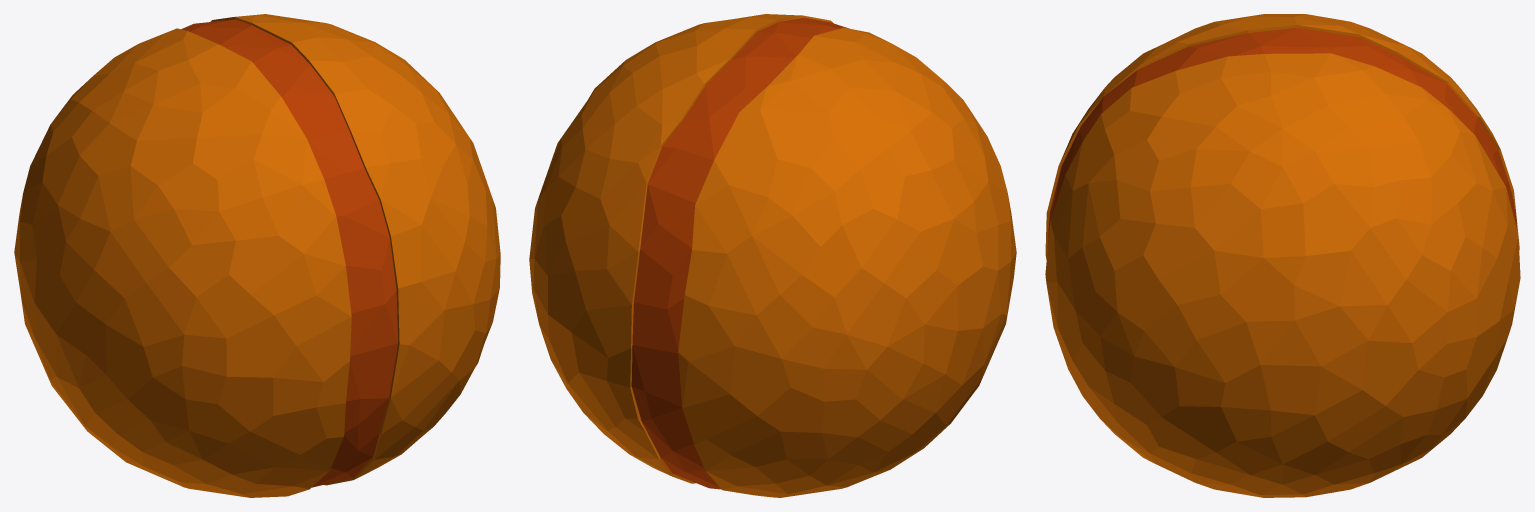
The model's file is mars.fbx.
3 views of the same model, side by side, from view 1: azimuth 30°, elevation 25°; view 2: azimuth 150°, elevation 25°; view 3: azimuth 270°, elevation 25° (orthographic).
Visible parts, largest first — view 1: Cube.004; view 2: Cube.004; view 3: Cube.004.
Part boxes in pixels (left/top/right/bottom): Cube.004: left=14, top=14, right=500, bottom=497; Cube.004: left=529, top=14, right=1016, bottom=497; Cube.004: left=1045, top=14, right=1520, bottom=497.
Size of the model in its own units: 168 by 167 by 167.
